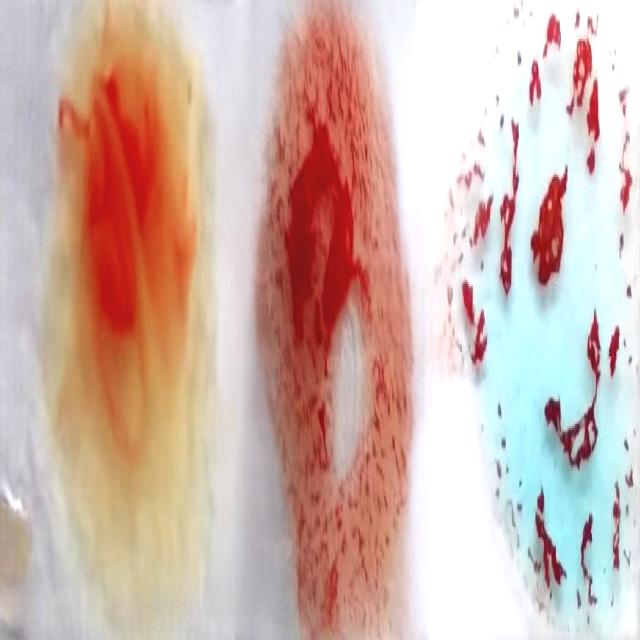A: (464, 13, 638, 625)
D: (263, 6, 408, 640)
